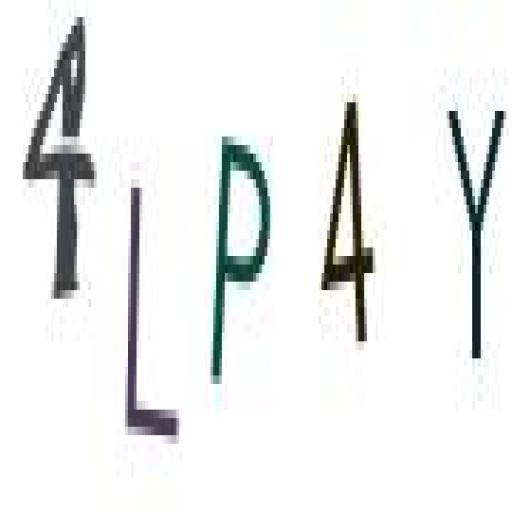4: (20, 14, 100, 312), (323, 93, 378, 355)
L: (123, 170, 184, 458)
P: (206, 124, 272, 387)
Y: (447, 97, 510, 369)
